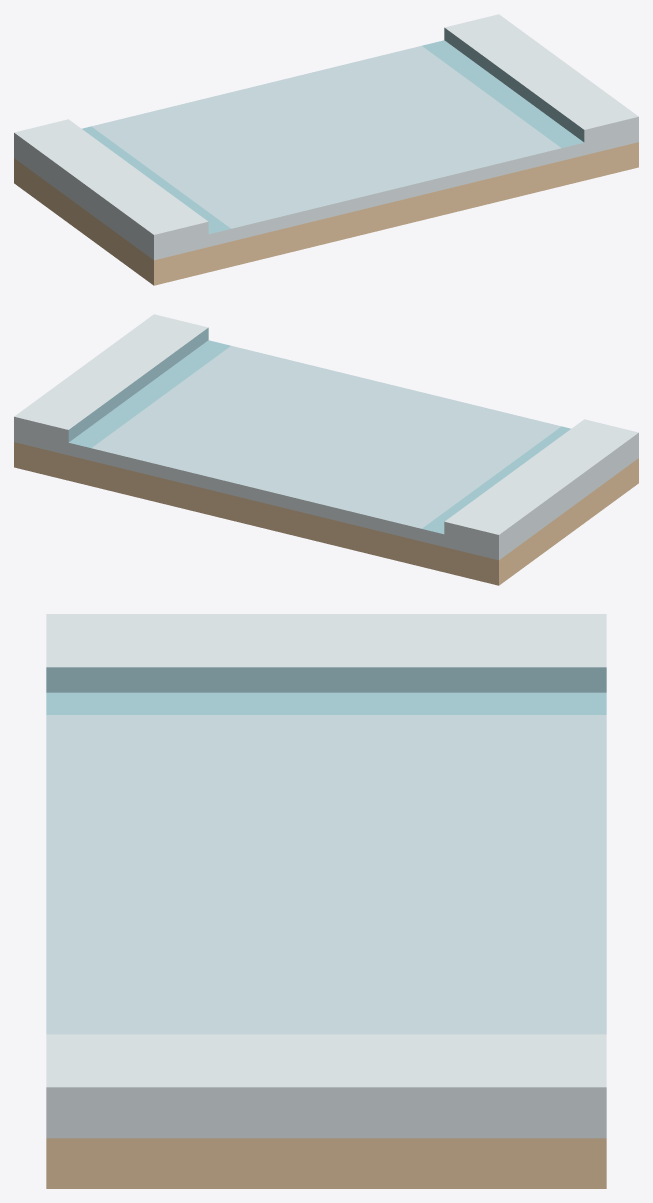
File: snow_tile_wideStraight.glb
The picture shows the model from 3 angles, top to bottom: view 1: azimuth 30°, elevation 25°; view 2: azimuth 150°, elevation 25°; view 3: azimuth 270°, elevation 25°; orthographic projection. The views are drawn at different scales.
Parts seen in each view (by area): view 1: snow_tile_wideStraight; view 2: snow_tile_wideStraight; view 3: snow_tile_wideStraight.
Boxes of the visible parts, <box> form: snow_tile_wideStraight: <box>14,14,638,285</box>; snow_tile_wideStraight: <box>14,314,638,585</box>; snow_tile_wideStraight: <box>46,614,606,1188</box>.
Size of the model in its own units: 2 by 0.2 by 1.
